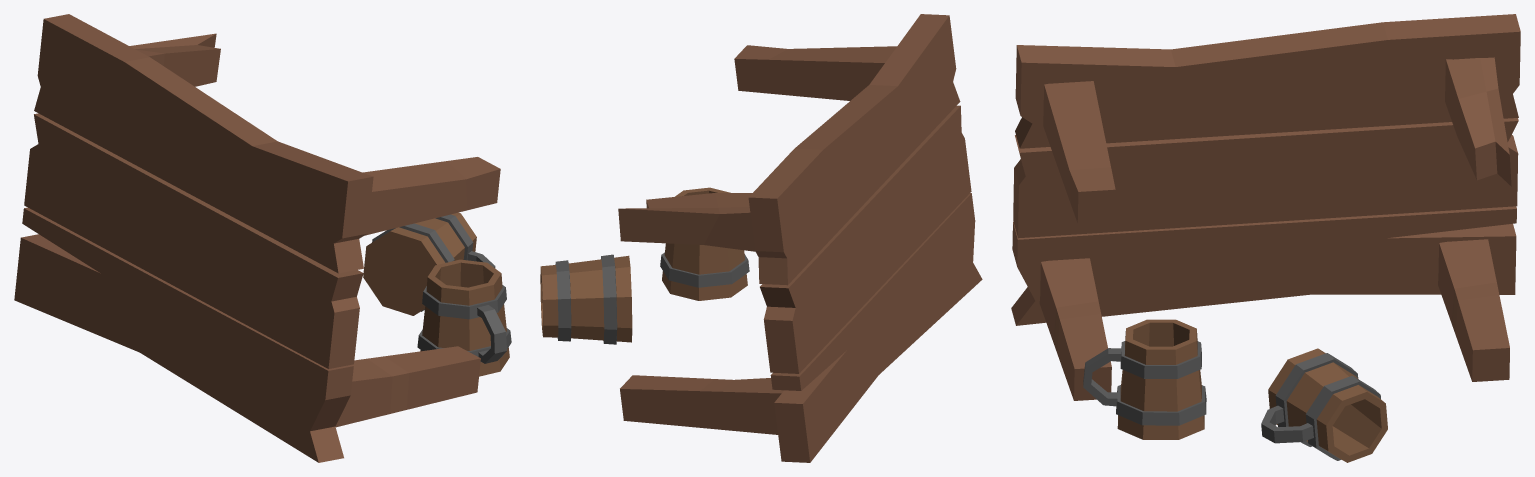
The model's file is table and beers.fbx.
3 renders of one model, left to right at view 1: azimuth 30°, elevation 25°; view 2: azimuth 150°, elevation 25°; view 3: azimuth 270°, elevation 25°, orthographic. The views are drawn at different scales.
Visible parts, largest first — view 1: Cube.001, Circle, Circle.001; view 2: Cube.001, Circle.001, Circle; view 3: Cube.001, Circle, Circle.001.
Boxes of the visible parts, <box> form: Cube.001: <box>14,14,500,462</box>; Circle: <box>417,259,511,376</box>; Circle.001: <box>363,212,495,315</box>; Cube.001: <box>618,14,982,462</box>; Circle.001: <box>540,254,632,344</box>; Circle: <box>660,187,749,300</box>; Cube.001: <box>1011,14,1520,400</box>; Circle: <box>1083,319,1206,439</box>; Circle.001: <box>1261,348,1387,462</box>.
Size of the model in its own units: 298 by 216 by 342.
